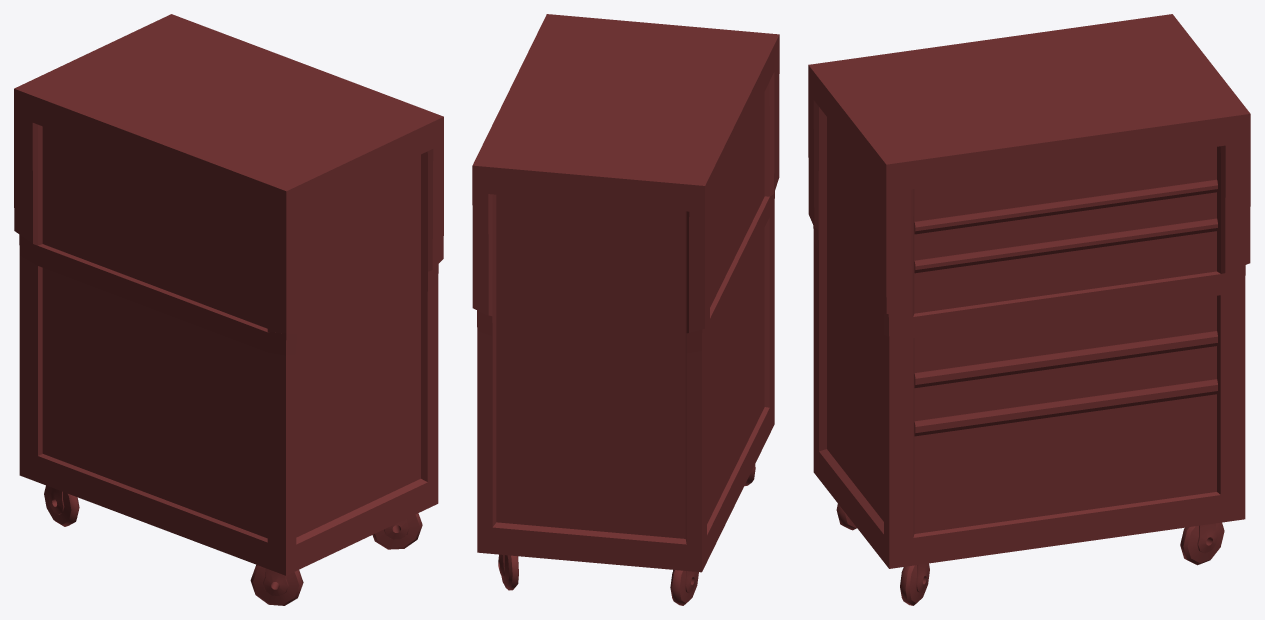
Rendered from obj_mesaAyudante.fbx.
3 views of the same model, side by side, from view 1: azimuth 30°, elevation 25°; view 2: azimuth 150°, elevation 25°; view 3: azimuth 270°, elevation 25° (orthographic). The views are drawn at different scales.
Visible parts, largest first — view 1: Cube.002; view 2: Cube.002; view 3: Cube.002.
Boxes of the visible parts, box(x1,y1,x2,y2) form: Cube.002: box(14, 14, 443, 605); Cube.002: box(472, 14, 779, 605); Cube.002: box(808, 14, 1250, 605).
Bounding box in the file's own units: 0.4671 × 0.6582 × 0.5795.
